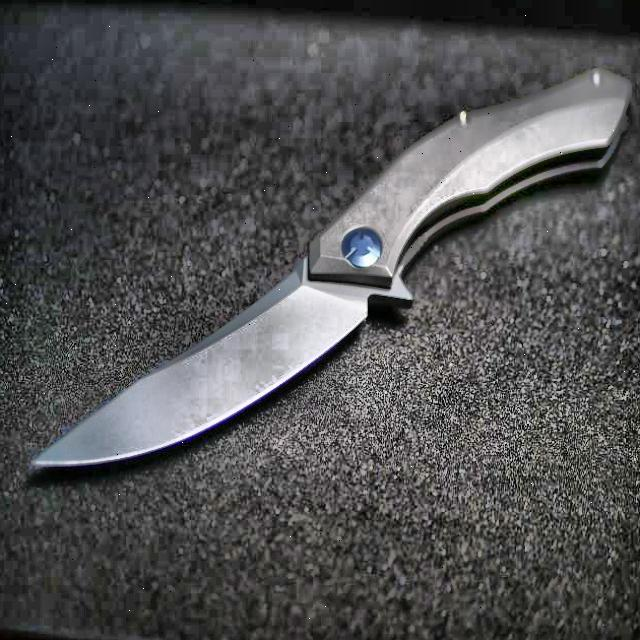knife: (28, 53, 637, 477)
